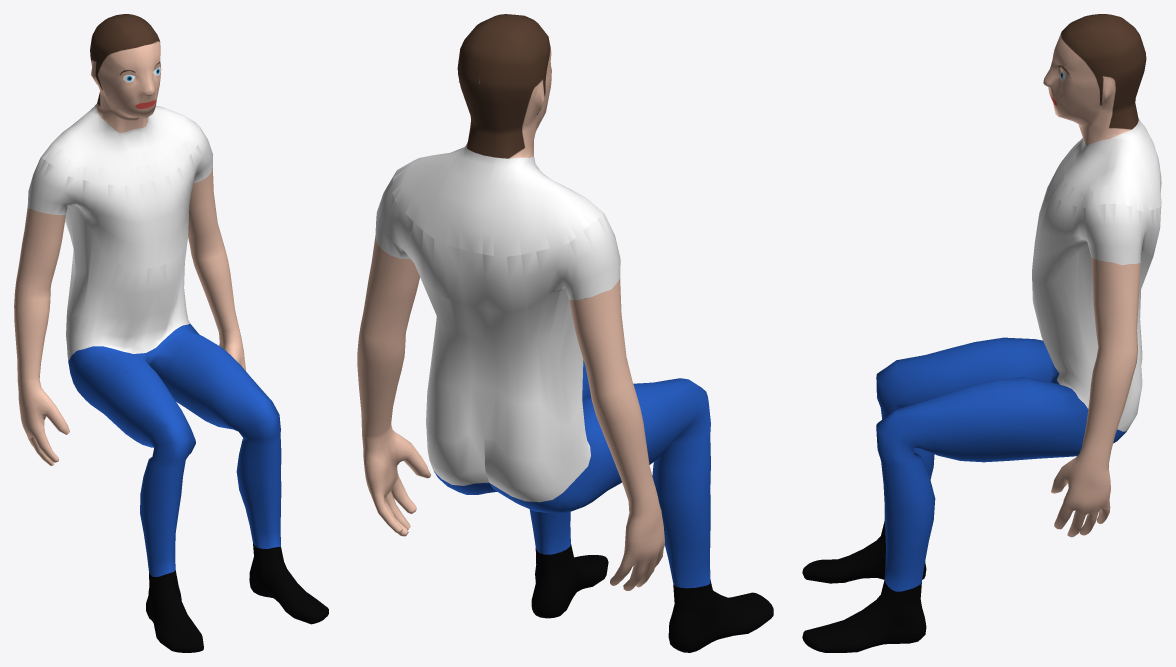
Rendered from adam_2_model.fbx.
3 views of the same model, side by side, from view 1: azimuth 30°, elevation 25°; view 2: azimuth 150°, elevation 25°; view 3: azimuth 270°, elevation 25° (orthographic). The views are drawn at different scales.
Parts seen in each view (by area): view 1: HumanBody:humanBody; view 2: HumanBody:humanBody; view 3: HumanBody:humanBody.
Boxes of the visible parts, x1,y1,x2,y2 form: HumanBody:humanBody: (14,14,328,652); HumanBody:humanBody: (357,14,773,652); HumanBody:humanBody: (802,14,1161,652).
Size of the model in its own units: 8.04 by 18.5 by 10.12.
